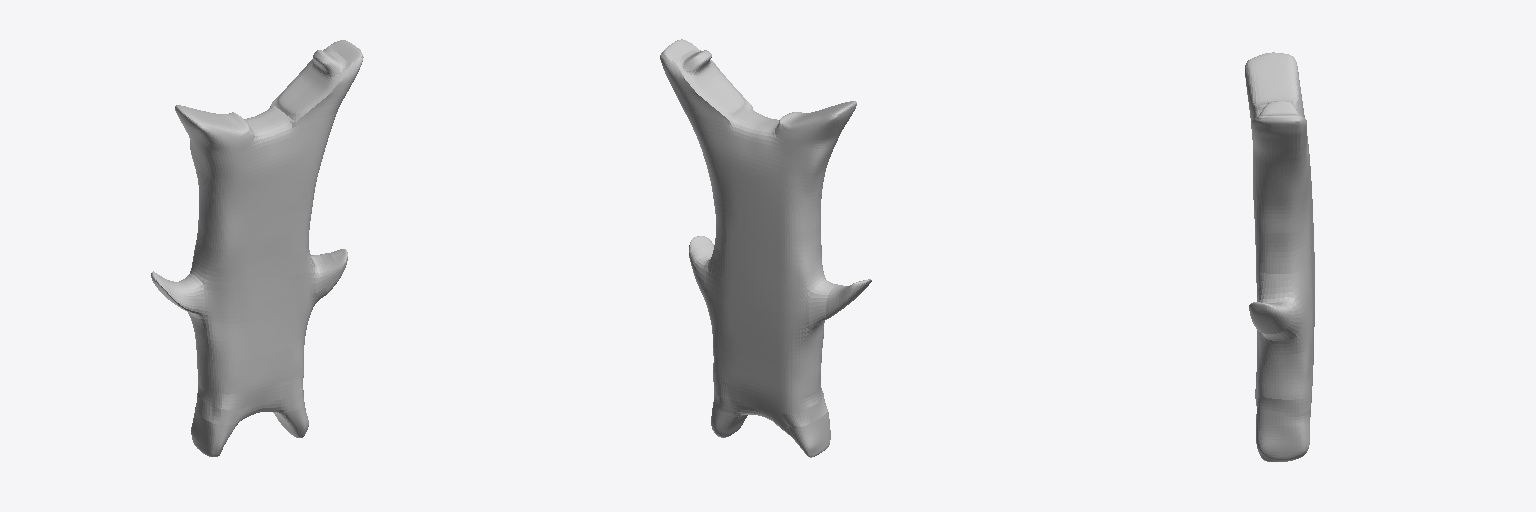
File: korok17.obj
3 views of the same model, side by side, from view 1: azimuth 30°, elevation 25°; view 2: azimuth 150°, elevation 25°; view 3: azimuth 270°, elevation 25° (orthographic).
Parts seen in each view (by area): view 1: Plane; view 2: Plane; view 3: Plane.
Boxes of the visible parts, box(x1,y1,x2,y2) form: Plane: box(151, 40, 363, 456); Plane: box(660, 39, 871, 457); Plane: box(1245, 52, 1314, 461).
Bounding box in the file's own units: 1.02 × 1.83 × 0.3097.